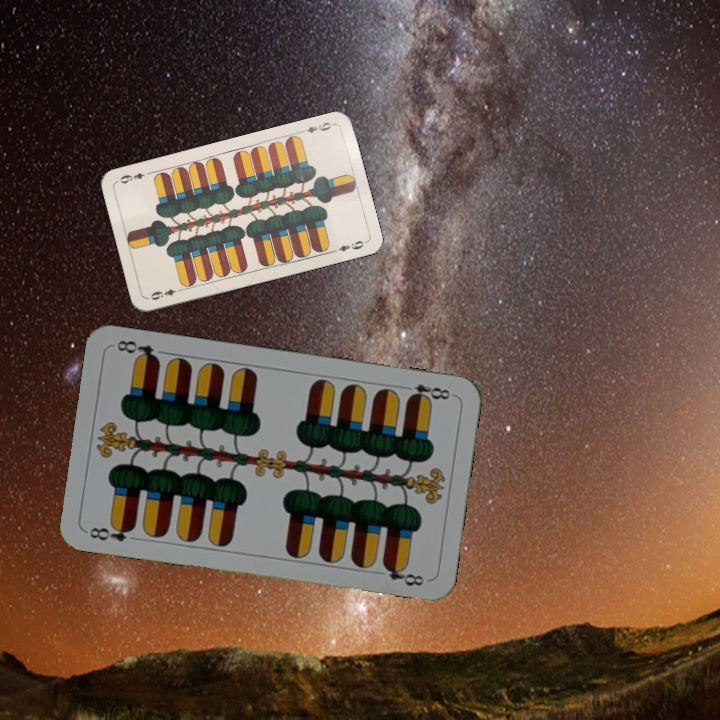E8: (398, 380, 456, 405), (85, 519, 138, 544)
E9: (145, 284, 185, 303), (297, 118, 337, 136)
